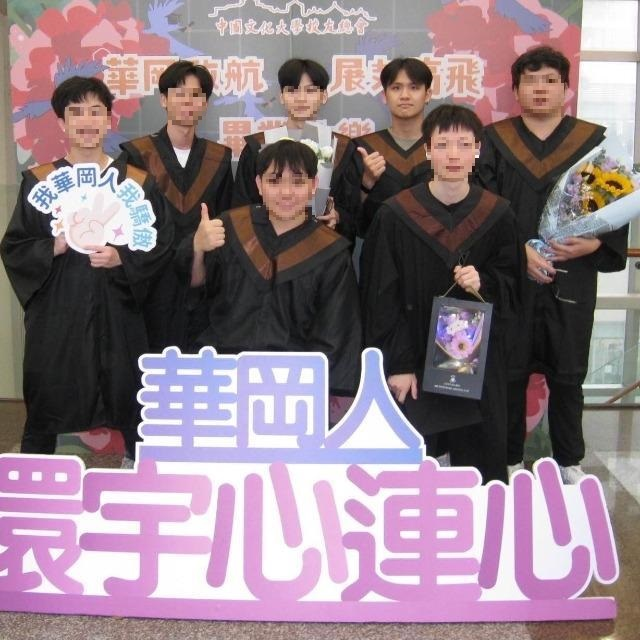NoHelmet: (254, 141, 321, 218), (422, 104, 482, 183), (52, 74, 115, 148), (510, 46, 571, 116), (155, 59, 215, 126), (381, 56, 434, 121), (278, 58, 331, 120)
